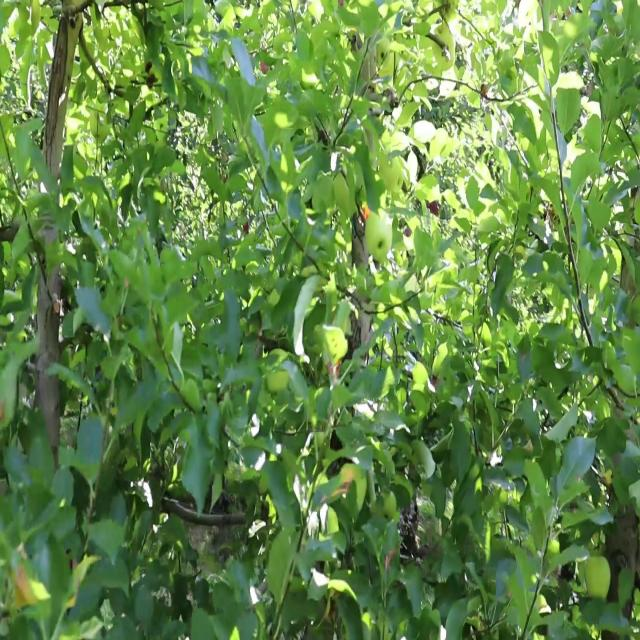apple: (365, 208, 393, 261), (584, 554, 612, 601), (266, 348, 289, 394), (382, 155, 404, 194)
